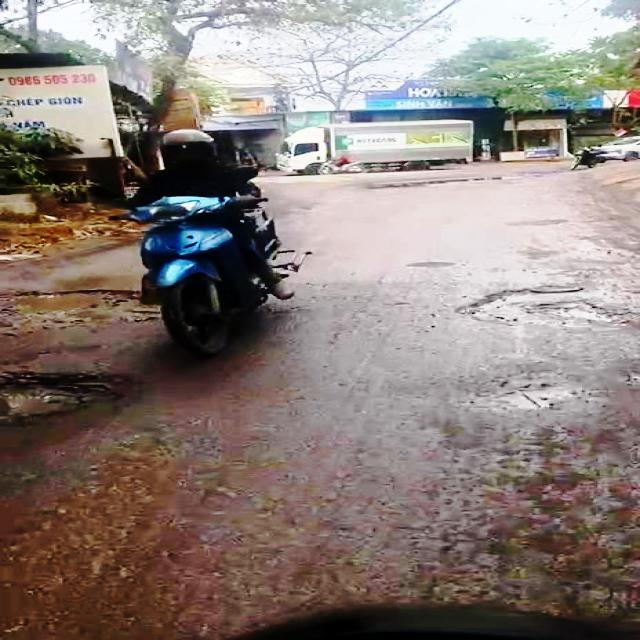pothole: (0, 366, 141, 429), (465, 285, 630, 332), (0, 284, 150, 333), (473, 376, 593, 414)
